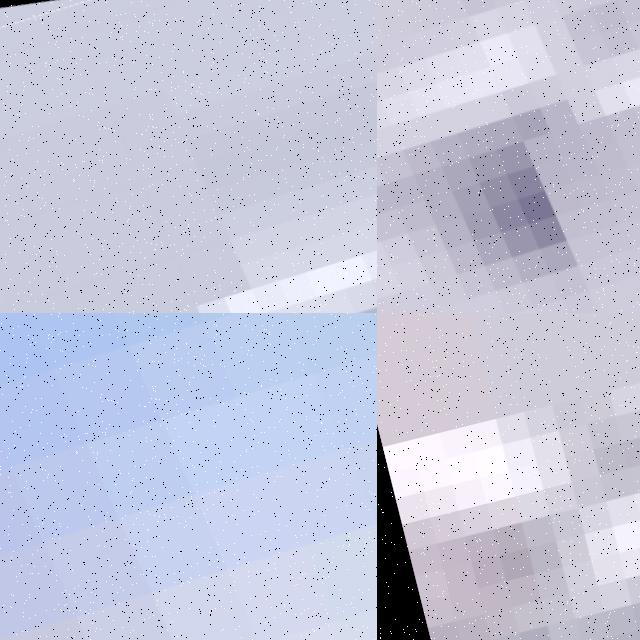drone: (0, 313, 377, 640), (0, 0, 377, 313), (377, 0, 640, 313)
